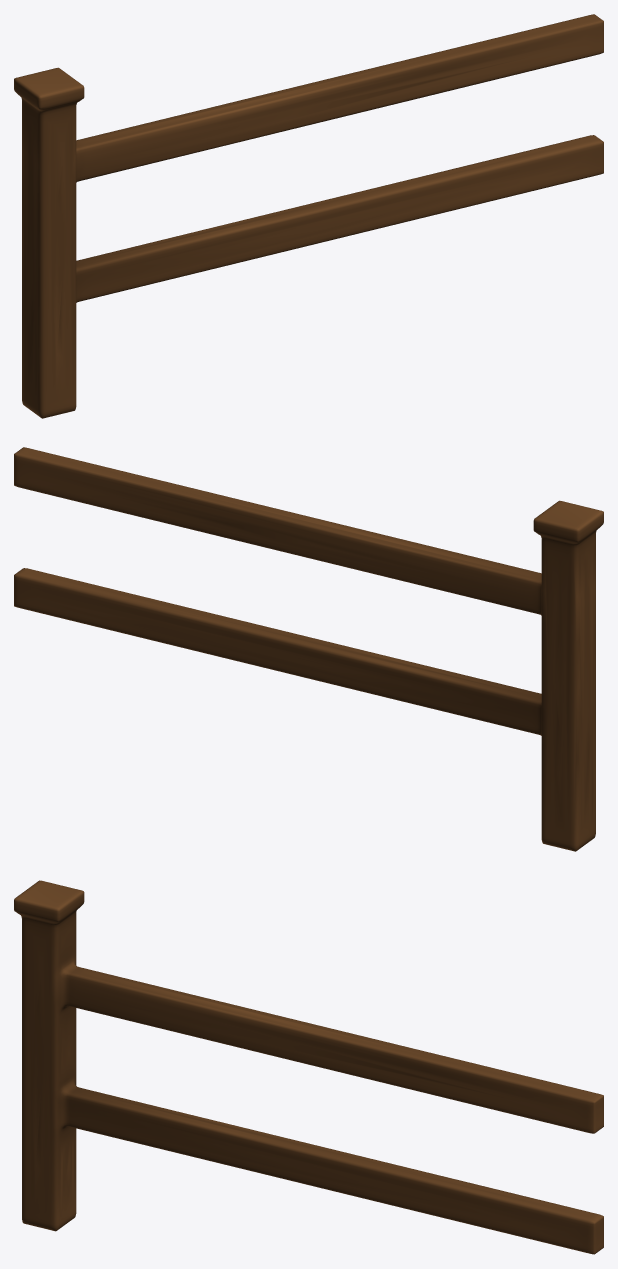
File: fence_segment.glb
The picture shows the model from 3 angles, top to bottom: view 1: azimuth 30°, elevation 25°; view 2: azimuth 150°, elevation 25°; view 3: azimuth 330°, elevation 25°; orthographic projection.
Visible parts, largest first — view 1: fence; view 2: fence; view 3: fence.
Boxes of the visible parts, bbox=[...] form: fence: bbox=[14, 14, 603, 418]; fence: bbox=[14, 447, 603, 851]; fence: bbox=[14, 880, 603, 1254].
Bounding box in the file's own units: 2.5 × 1.36 × 0.2003.
